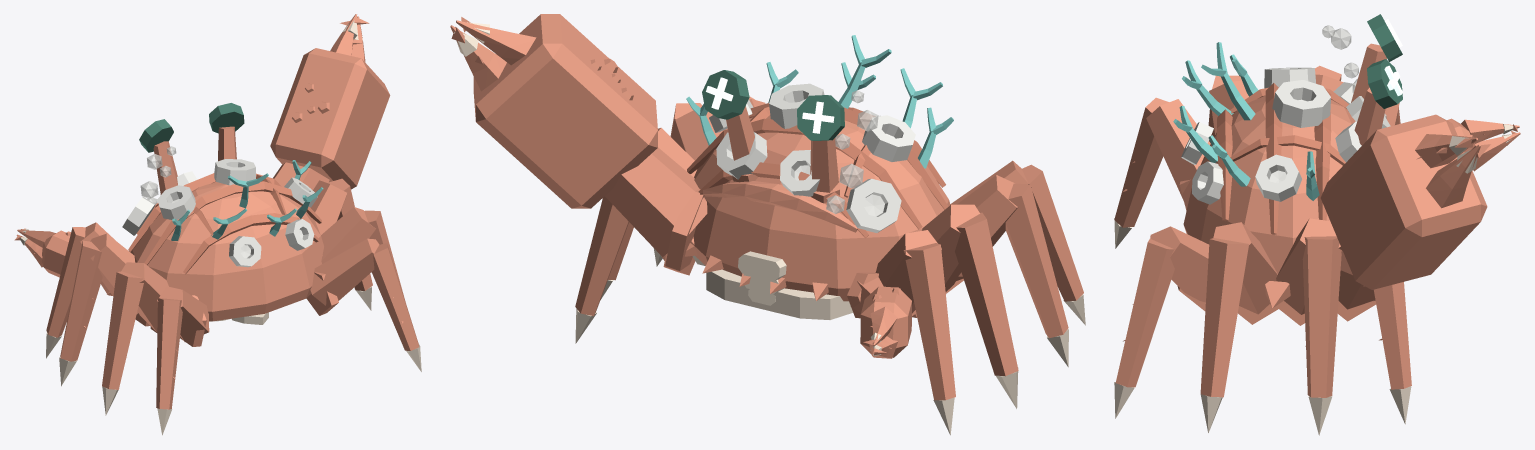
File: Pinch.fbx
3 renders of one model, left to right at view 1: azimuth 30°, elevation 25°; view 2: azimuth 150°, elevation 25°; view 3: azimuth 270°, elevation 25°, orthographic. The views are drawn at different scales.
Visible parts, largest first — view 1: Pinch_Carapace_Shell, Pinch_ClawPalm_R_Shell, Pinch_Barnacles_Barnacle, Pinch_Segments_ShellDark, Pinch_LegU_R4_Shell, Pinch_LegL_L3_Shell, Pinch_LegL_L2_Shell, Pinch_LegL_L4_Shell, Pinch_LegL_R4_Shell, Pinch_LegL_L1_Shell, Pinch_LegU_R3_Shell, Pinch_Coral_Coral (+14 smaller); view 2: Pinch_ClawPalm_R_Shell, Pinch_Carapace_Shell, Pinch_Barnacles_Barnacle, Pinch_ClawArm_R_Shell, Pinch_LegL_L2_Shell, Pinch_Segments_ShellDark, Pinch_LegL_L1_Shell, Pinch_LegL_L3_Shell, Pinch_Coral_Coral, Pinch_Belly_Underside, Pinch_LegL_R1_Shell, Pinch_LegL_L4_Shell (+17 smaller); view 3: Pinch_ClawPalm_R_Shell, Pinch_Carapace_Shell, Pinch_Barnacles_Barnacle, Pinch_LegL_R2_Shell, Pinch_LegL_R3_Shell, Pinch_Segments_ShellDark, Pinch_LegL_R4_Shell, Pinch_Coral_Coral, Pinch_LegL_L4_Shell, Pinch_LegL_R1_Shell, Pinch_LegU_R3_Shell, Pinch_LegU_L4_Shell (+16 smaller).
Part boxes in pixels (x1,y1,x2,y2): Pinch_Carapace_Shell: [107, 182, 323, 321]; Pinch_ClawPalm_R_Shell: [270, 48, 390, 189]; Pinch_Barnacles_Barnacle: [122, 159, 317, 267]; Pinch_Segments_ShellDark: [128, 173, 321, 273]; Pinch_LegU_R4_Shell: [306, 238, 379, 315]; Pinch_LegL_L3_Shell: [102, 271, 143, 389]; Pinch_LegL_L2_Shell: [60, 240, 102, 361]; Pinch_LegL_L4_Shell: [156, 298, 182, 409]; Pinch_LegL_R4_Shell: [371, 243, 419, 350]; Pinch_LegL_L1_Shell: [46, 227, 85, 337]; Pinch_LegU_R3_Shell: [321, 207, 375, 263]; Pinch_Coral_Coral: [171, 160, 323, 240]; Pinch_ClawPalm_R_Shell: [473, 14, 657, 208]; Pinch_Carapace_Shell: [685, 115, 962, 301]; Pinch_Barnacles_Barnacle: [709, 83, 915, 232]; Pinch_ClawArm_R_Shell: [605, 147, 707, 270]; Pinch_LegL_L2_Shell: [955, 212, 1018, 376]; Pinch_Segments_ShellDark: [687, 103, 948, 237]; Pinch_LegL_L1_Shell: [903, 243, 955, 400]; Pinch_LegL_L3_Shell: [1005, 183, 1068, 338]; Pinch_Coral_Coral: [686, 35, 953, 168]; Pinch_Belly_Underside: [692, 255, 852, 319]; Pinch_LegL_R1_Shell: [575, 196, 628, 315]; Pinch_LegL_L4_Shell: [1022, 164, 1083, 301]; Pinch_ClawPalm_R_Shell: [1320, 114, 1487, 289]; Pinch_Carapace_Shell: [1183, 96, 1355, 308]; Pinch_Barnacles_Barnacle: [1181, 67, 1390, 204]; Pinch_LegL_R2_Shell: [1302, 236, 1341, 397]; Pinch_LegL_R3_Shell: [1200, 238, 1248, 397]; Pinch_Segments_ShellDark: [1217, 83, 1348, 234]; Pinch_LegL_R4_Shell: [1115, 239, 1174, 387]; Pinch_Coral_Coral: [1173, 42, 1319, 200]; Pinch_LegL_L4_Shell: [1114, 97, 1168, 227]; Pinch_LegL_R1_Shell: [1374, 282, 1411, 389]; Pinch_LegU_R3_Shell: [1213, 222, 1278, 324]; Pinch_LegU_L4_Shell: [1146, 99, 1210, 210].
Size of what is drawn, in the model's own units: 10.77 by 6.9 by 7.78.
